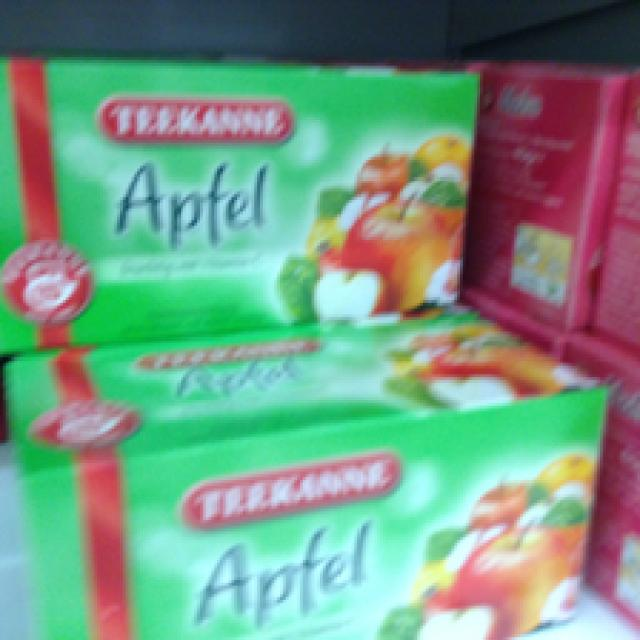groceries: (0, 308, 611, 637), (0, 49, 480, 348)
